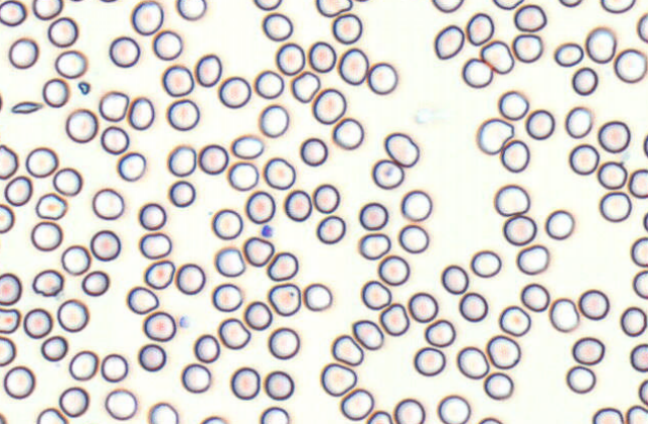PLT: (261, 224, 276, 238), (180, 316, 190, 328)
RBC: (476, 117, 514, 154), (384, 131, 419, 167), (312, 87, 346, 124), (479, 39, 514, 74), (320, 362, 356, 396), (486, 334, 520, 369), (493, 184, 530, 216), (339, 387, 374, 420), (65, 108, 98, 143), (614, 48, 647, 83), (585, 26, 616, 63), (338, 47, 368, 85), (131, 0, 163, 35), (456, 346, 489, 379), (268, 283, 301, 316), (3, 365, 35, 399), (57, 298, 89, 332), (104, 388, 137, 420), (161, 64, 194, 96), (166, 98, 199, 130), (218, 76, 251, 108), (331, 117, 364, 149), (598, 120, 630, 153), (549, 297, 579, 332), (434, 24, 464, 59), (331, 334, 363, 366), (218, 317, 250, 349), (92, 187, 124, 219), (263, 157, 295, 189), (400, 189, 432, 221), (498, 305, 531, 336), (516, 244, 549, 275), (503, 214, 536, 245), (25, 146, 58, 177), (371, 158, 404, 189), (367, 61, 398, 94), (379, 302, 409, 336), (377, 254, 409, 285), (268, 327, 299, 359), (461, 57, 493, 88), (211, 208, 243, 239), (331, 12, 362, 44), (599, 191, 631, 222), (108, 36, 140, 67), (143, 311, 176, 341), (290, 70, 320, 103), (500, 139, 530, 172), (230, 366, 260, 399), (275, 42, 305, 75), (259, 104, 289, 137), (245, 190, 275, 223), (58, 386, 89, 417), (60, 244, 91, 275), (47, 16, 78, 47), (352, 319, 383, 350), (243, 236, 274, 267), (214, 246, 245, 277), (578, 289, 609, 320), (413, 346, 445, 376), (227, 161, 259, 191), (266, 251, 298, 281), (8, 37, 38, 69), (30, 221, 62, 251), (175, 262, 205, 294), (90, 229, 120, 261), (569, 143, 599, 175), (437, 394, 470, 423), (54, 49, 87, 78), (465, 12, 494, 45), (194, 53, 222, 87), (144, 259, 175, 289), (360, 280, 391, 310), (458, 291, 488, 322), (408, 291, 438, 322), (152, 29, 182, 60), (572, 336, 604, 365), (283, 189, 312, 221), (513, 4, 546, 32), (127, 96, 154, 130), (181, 363, 211, 393), (68, 350, 98, 380), (264, 370, 294, 400), (498, 90, 528, 120), (198, 144, 228, 174), (254, 69, 284, 99), (424, 318, 455, 347), (23, 307, 52, 338), (211, 283, 242, 312), (167, 145, 196, 176), (99, 90, 128, 121), (262, 12, 293, 41), (545, 209, 574, 240), (512, 33, 543, 62), (398, 224, 429, 253), (126, 286, 158, 314), (35, 192, 67, 220), (358, 232, 390, 260), (483, 371, 513, 400), (520, 282, 549, 312), (52, 167, 82, 196), (117, 151, 146, 181), (358, 201, 388, 230), (525, 109, 554, 139), (4, 175, 32, 206), (565, 365, 596, 393), (470, 249, 501, 277), (308, 41, 336, 72), (139, 232, 171, 259), (565, 106, 592, 138), (303, 282, 332, 311), (316, 215, 345, 244), (100, 125, 129, 154), (244, 300, 272, 330), (597, 161, 627, 189), (312, 183, 340, 213), (32, 269, 63, 296), (231, 134, 264, 159), (100, 353, 128, 382), (299, 137, 327, 166), (193, 333, 220, 363), (42, 77, 69, 107), (441, 264, 468, 294), (393, 398, 425, 423), (138, 343, 166, 371), (138, 202, 166, 230), (571, 66, 598, 95), (620, 306, 646, 336), (168, 180, 195, 207), (40, 335, 68, 361), (81, 270, 109, 296), (0, 272, 22, 305), (554, 42, 583, 67), (0, 0, 26, 26), (0, 144, 18, 179), (148, 402, 178, 423), (315, 0, 352, 17), (32, 0, 62, 20), (176, 0, 206, 20), (628, 168, 647, 198), (0, 307, 20, 333), (259, 406, 289, 423), (0, 335, 16, 366), (36, 407, 67, 423), (631, 236, 647, 267), (592, 407, 623, 423), (630, 343, 647, 372), (600, 0, 635, 13), (632, 269, 647, 299), (0, 203, 14, 233), (431, 0, 463, 13), (625, 405, 647, 423), (366, 410, 392, 423), (637, 12, 647, 42), (253, 0, 282, 10), (492, 0, 523, 9), (638, 379, 648, 405), (200, 415, 226, 423), (477, 416, 502, 423), (558, 0, 582, 7), (642, 211, 648, 232), (643, 133, 648, 157), (0, 412, 7, 423), (0, 90, 3, 112), (98, 0, 119, 3), (68, 0, 87, 2), (353, 0, 371, 2)
Schistocyte: (9, 101, 44, 115), (77, 82, 91, 95)
